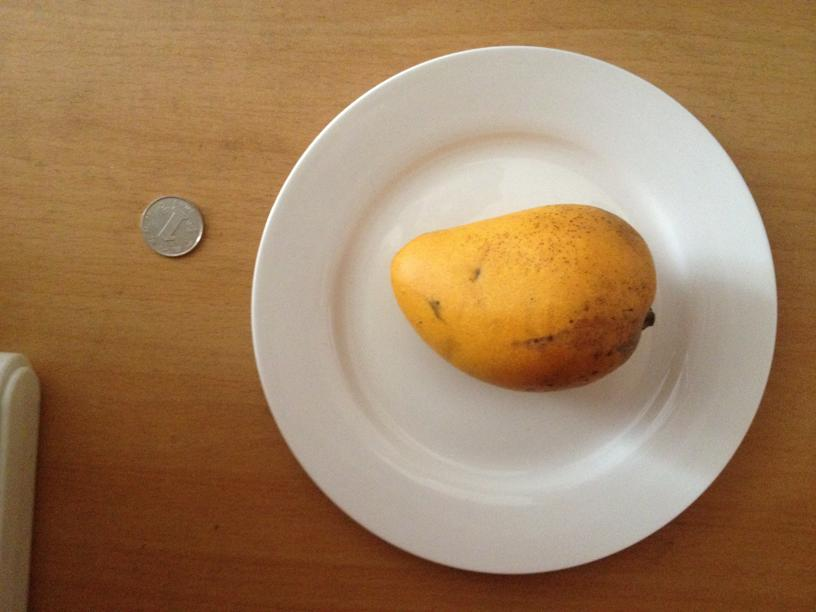coin: (139, 196, 204, 258)
mango: (392, 199, 655, 388)
